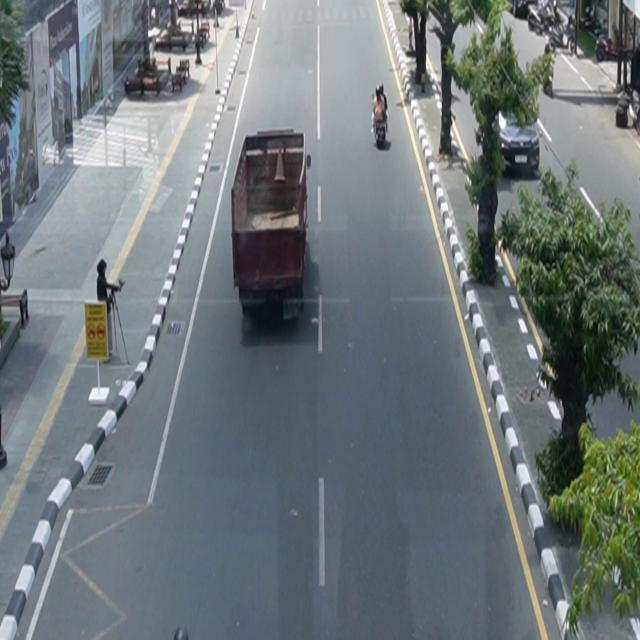car: (497, 107, 541, 175)
truck: (232, 129, 313, 324)
